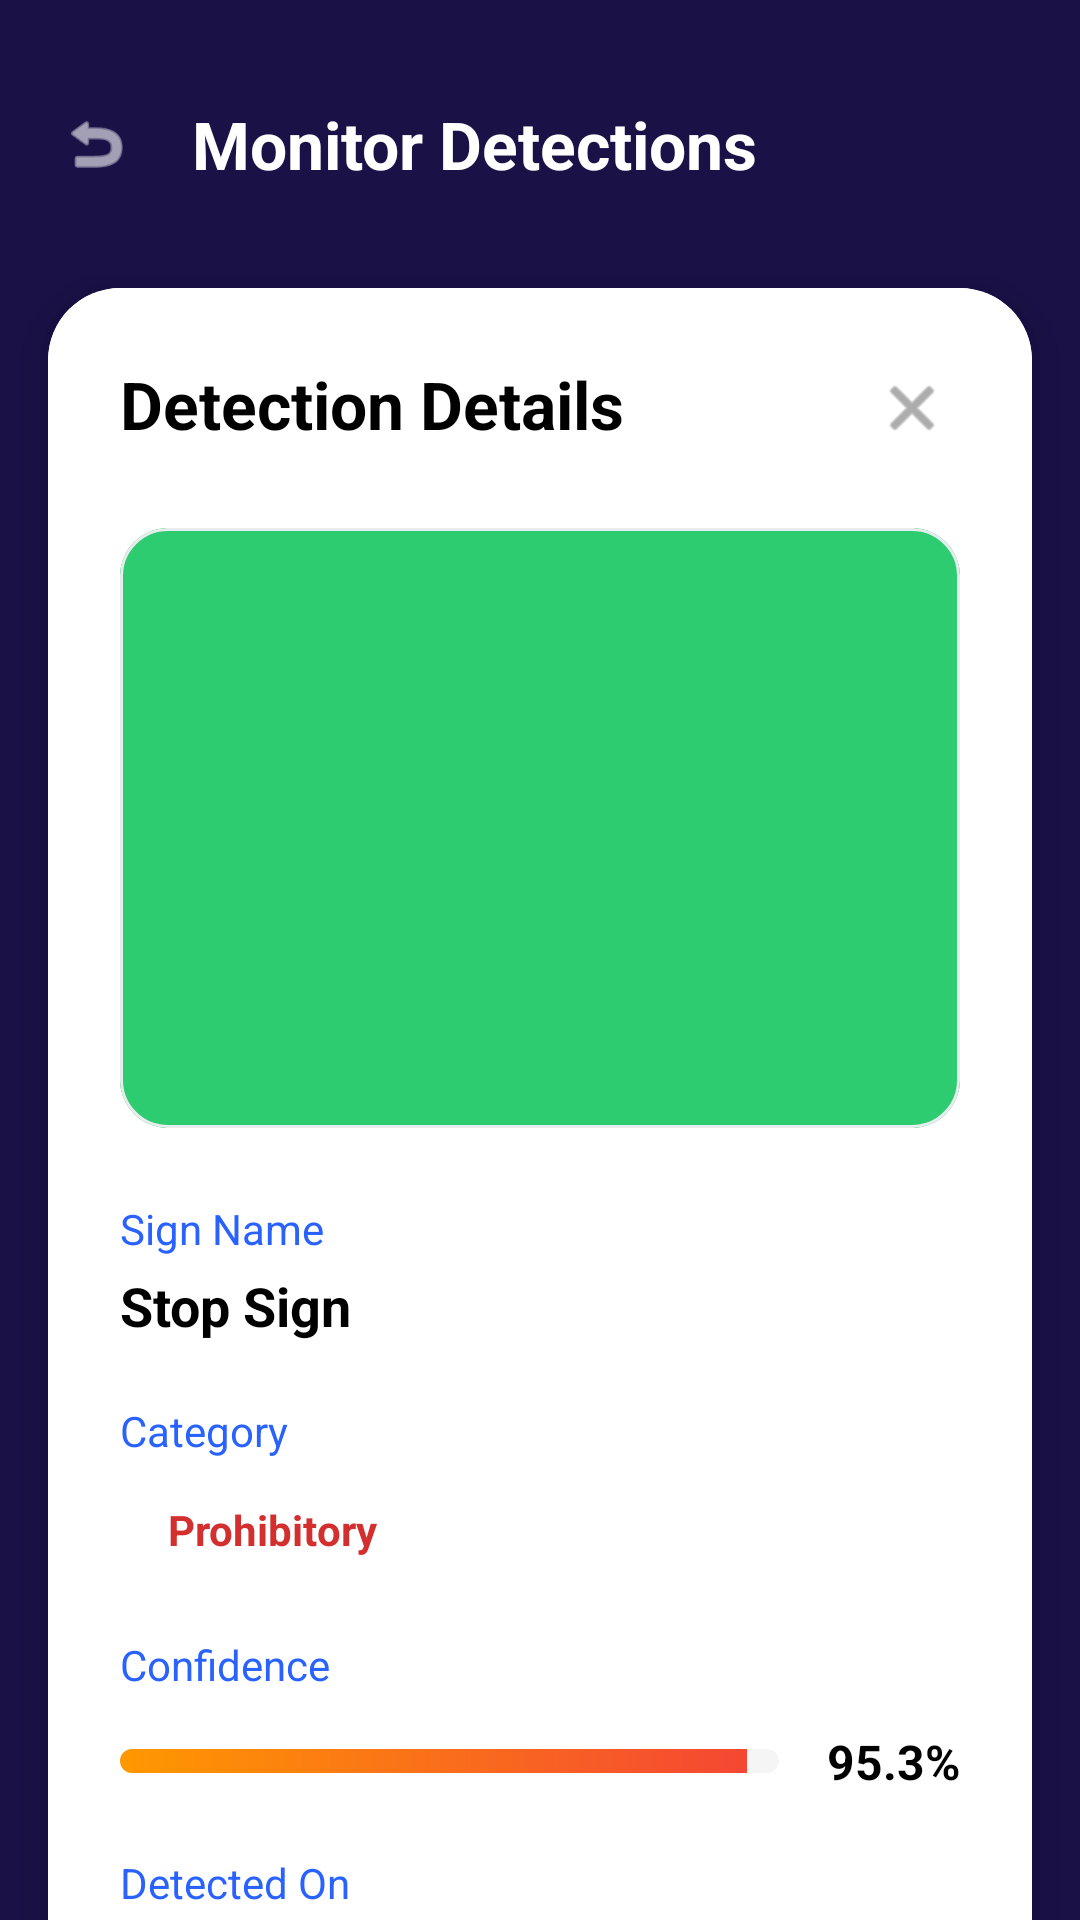

Icon bounding boxes for this 1080x1920 phone screenshot, format (x1, y1, x2, y2):
close clear cancel: (890, 386, 934, 430)
revert: (71, 121, 123, 168)
